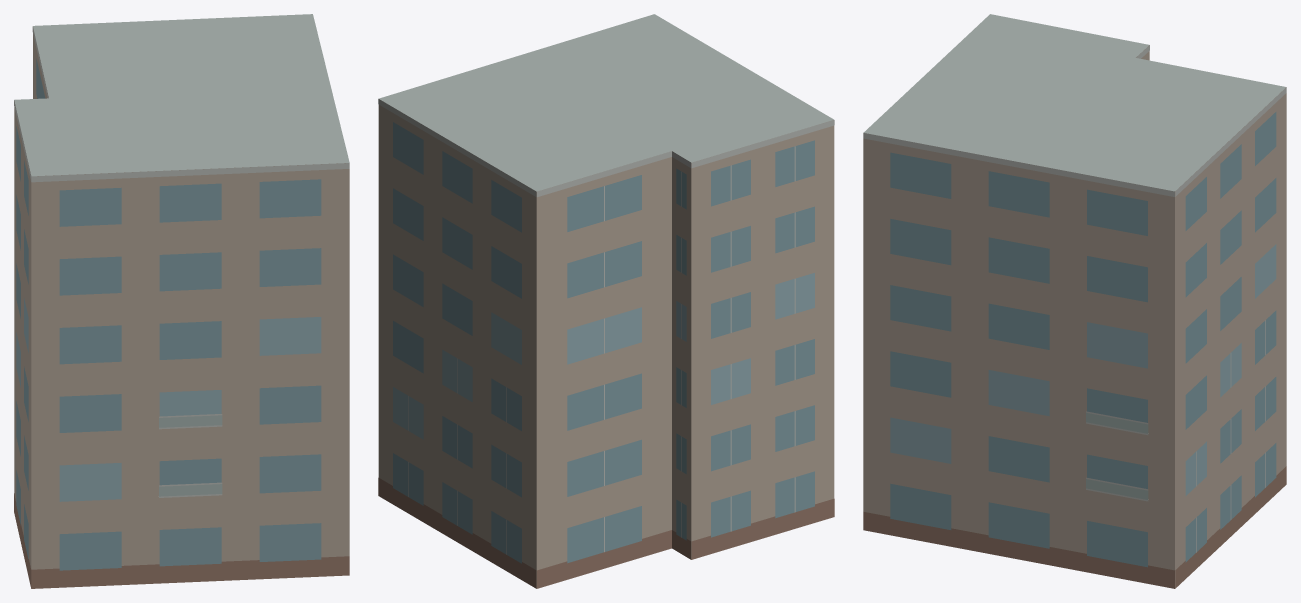
The model's file is survey-upis-32524558.glb.
The picture shows the model from 3 angles, left to right: view 1: azimuth 30°, elevation 25°; view 2: azimuth 150°, elevation 25°; view 3: azimuth 270°, elevation 25°; orthographic projection. The views are drawn at different scales.
Visible parts, largest first — view 1: survey-upis-32524558.tmp; view 2: survey-upis-32524558.tmp; view 3: survey-upis-32524558.tmp.
Part boxes in pixels (x1,y1,x2,y2): survey-upis-32524558.tmp: (14, 14, 349, 588); survey-upis-32524558.tmp: (378, 14, 834, 588); survey-upis-32524558.tmp: (863, 14, 1286, 588).
Size of the model in its own units: 16.2 by 16.9 by 16.32.
